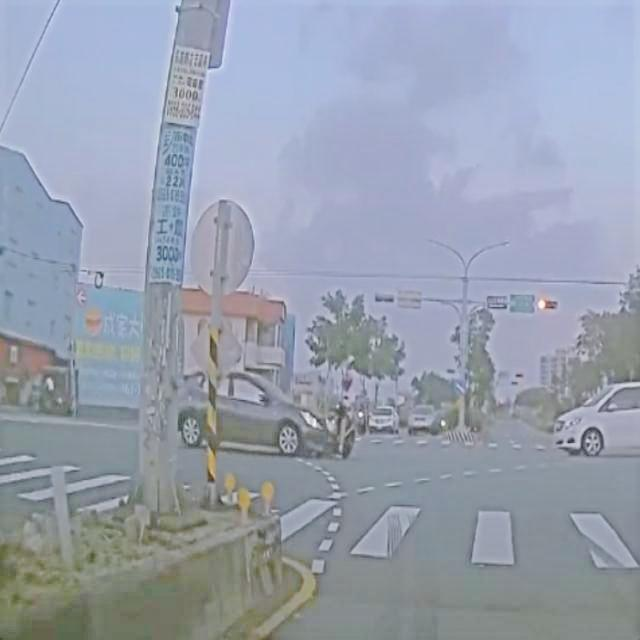Car: (171, 353, 329, 458), (554, 376, 640, 452), (404, 406, 441, 438), (368, 401, 398, 438)
Minor Accident: (177, 354, 364, 462)
Motor: (322, 369, 365, 466)
